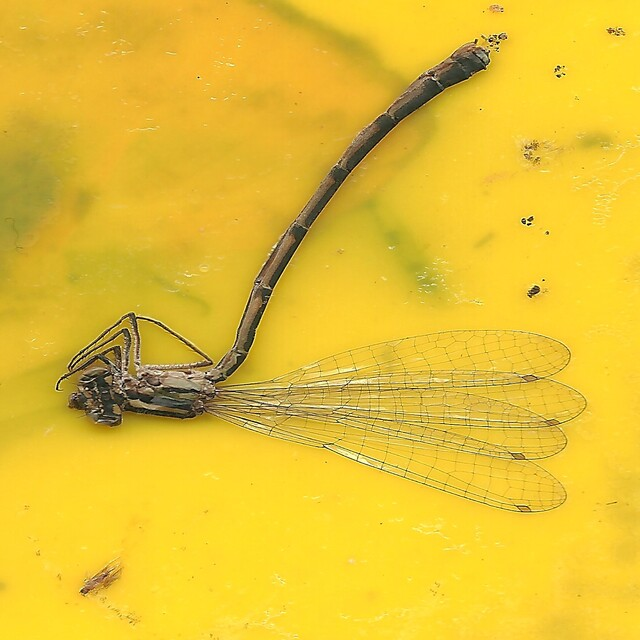Odonata: (53, 42, 587, 518)
Trichoptera: (77, 554, 125, 598)
